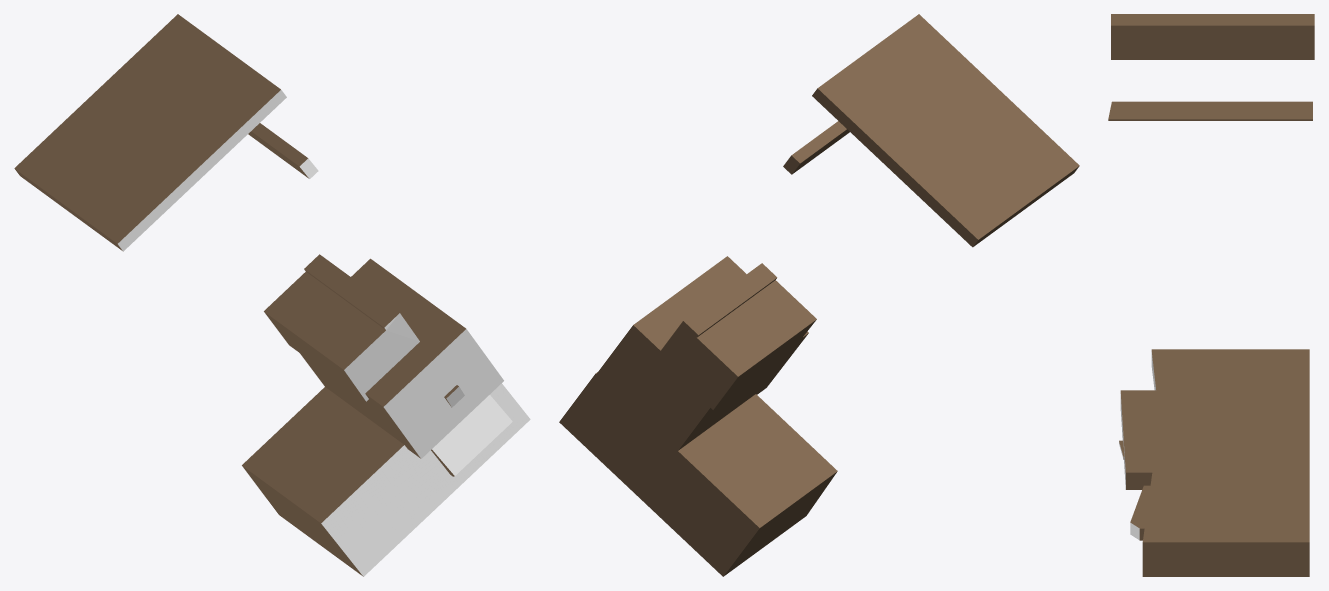
3 views of the same model, side by side, from view 1: azimuth 30°, elevation 25°; view 2: azimuth 150°, elevation 25°; view 3: azimuth 270°, elevation 25° (orthographic).
Parts seen in each view (by area): view 1: City_PC-08781; view 2: City_PC-08781; view 3: City_PC-08781.
Boxes of the visible parts, x1,y1,x2,y2 form: City_PC-08781: (14, 14, 530, 576); City_PC-08781: (559, 14, 1079, 576); City_PC-08781: (1108, 14, 1314, 576).
Bounding box in the file's own units: 2779 × 3237 × 1174.
